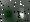person: (20, 9, 25, 20)
